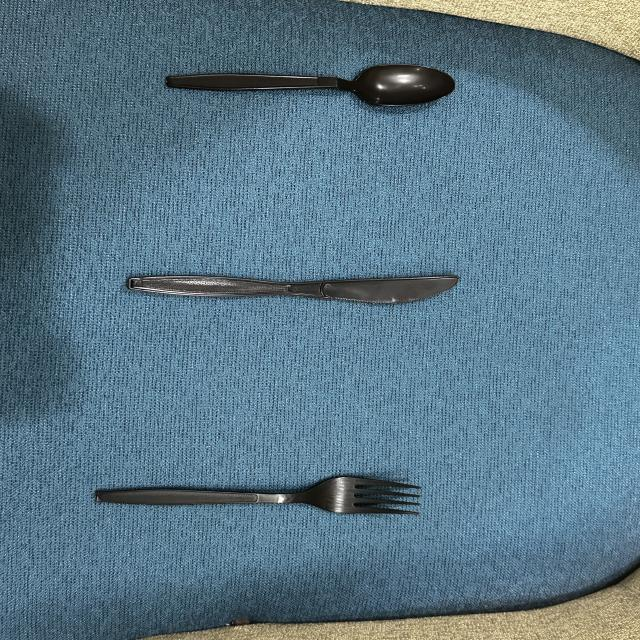fork: (49, 442, 513, 568)
knife: (36, 233, 561, 335)
spoon: (140, 12, 526, 170)
